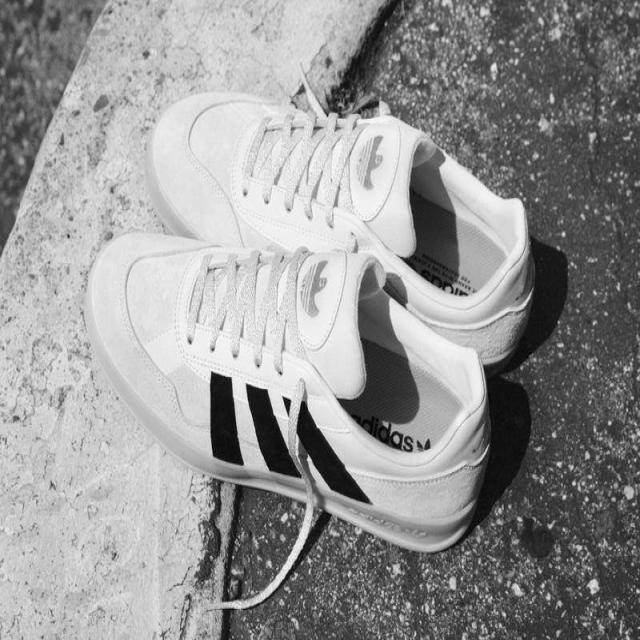Adidas: (352, 130, 388, 203), (296, 253, 331, 322)
